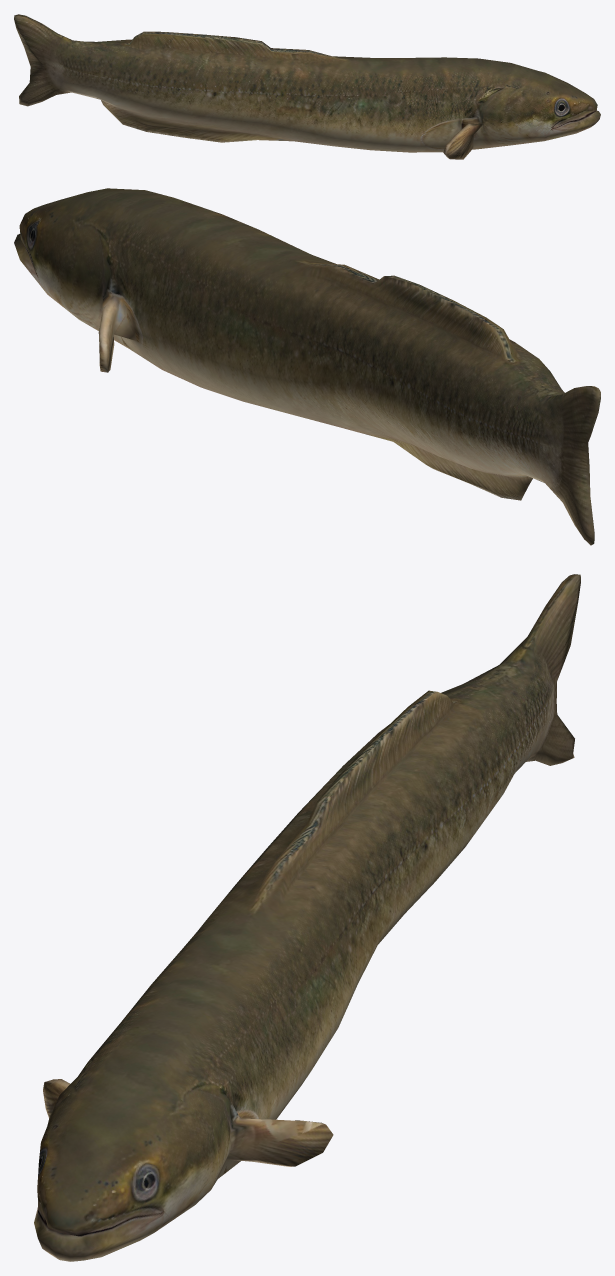
File: eel.glb
3 renders of one model, top to bottom at view 1: azimuth 30°, elevation 25°; view 2: azimuth 150°, elevation 25°; view 3: azimuth 270°, elevation 25°, orthographic. The views are drawn at different scales.
Parts seen in each view (by area): view 1: tripo_node_5dce5b23; view 2: tripo_node_5dce5b23; view 3: tripo_node_5dce5b23.
Part boxes in pixels (x1,y1,x2,y2): tripo_node_5dce5b23: (14,14,600,159); tripo_node_5dce5b23: (14,188,600,545); tripo_node_5dce5b23: (34,574,580,1261).
Bounding box in the file's own units: 97.65 × 28.46 × 50.45.
Materials: 1 (1 with a texture image).
